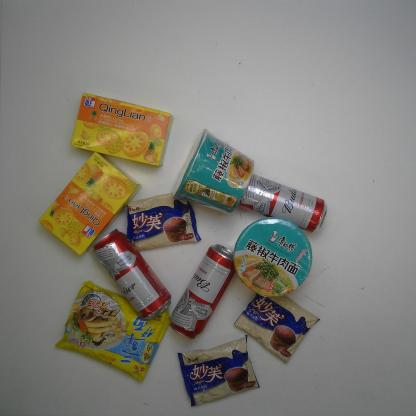Alcohol: (92, 228, 172, 321), (168, 242, 236, 340), (238, 172, 328, 232)
Dessert: (38, 152, 141, 256), (70, 90, 174, 168), (233, 292, 321, 364), (176, 334, 261, 407), (123, 191, 201, 251)
Instant Noodles: (54, 280, 171, 383), (170, 128, 256, 215), (232, 214, 313, 298)
